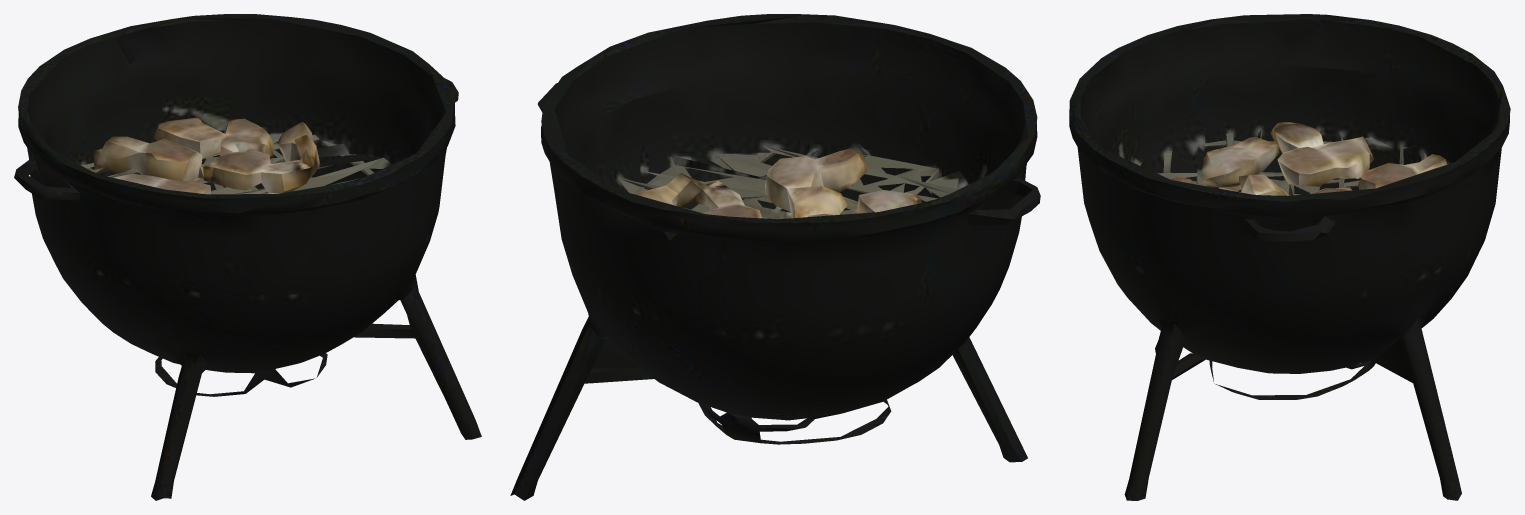
The model's file is bbq.glb.
The picture shows the model from 3 angles, left to right: view 1: azimuth 30°, elevation 25°; view 2: azimuth 150°, elevation 25°; view 3: azimuth 270°, elevation 25°; orthographic projection. The views are drawn at different scales.
Parts seen in each view (by area): view 1: bbq; view 2: bbq; view 3: bbq.
Part boxes in pixels (x1,y1,x2,y2): bbq: (14,14,481,500); bbq: (510,14,1040,500); bbq: (1069,14,1510,500).
Size of the model in its own units: 1.35 by 0.95 by 1.21.
Materials: 1 (1 with a texture image).
